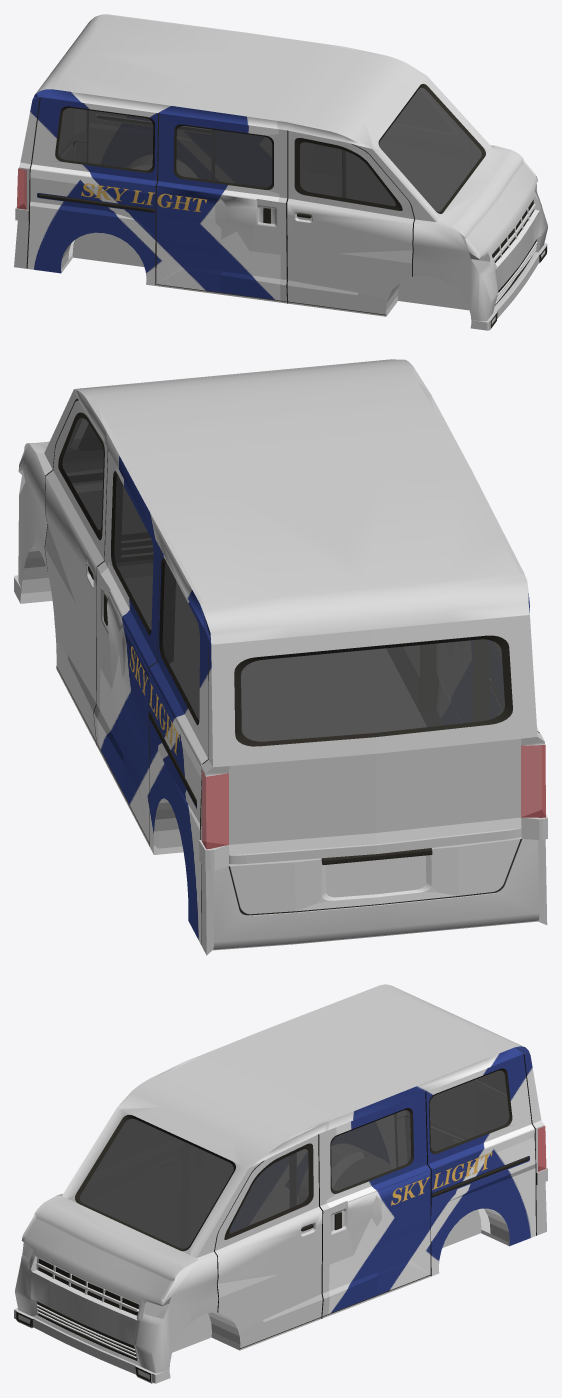
File: car-skylight.glb
3 renders of one model, top to bottom at view 1: azimuth 30°, elevation 25°; view 2: azimuth 150°, elevation 25°; view 3: azimuth 270°, elevation 25°, orthographic. The views are drawn at different scales.
Visible parts, largest first — view 1: 車子; view 2: 車子; view 3: 車子.
Part boxes in pixels (x1=…): 車子: x1=14, y1=14, x2=547, y2=330; 車子: x1=14, y1=359, x2=547, y2=955; 車子: x1=14, y1=984, x2=547, y2=1383.
Size of the model in its own units: 4.61 by 1.94 by 4.78.
10 materials, 3 textured.
